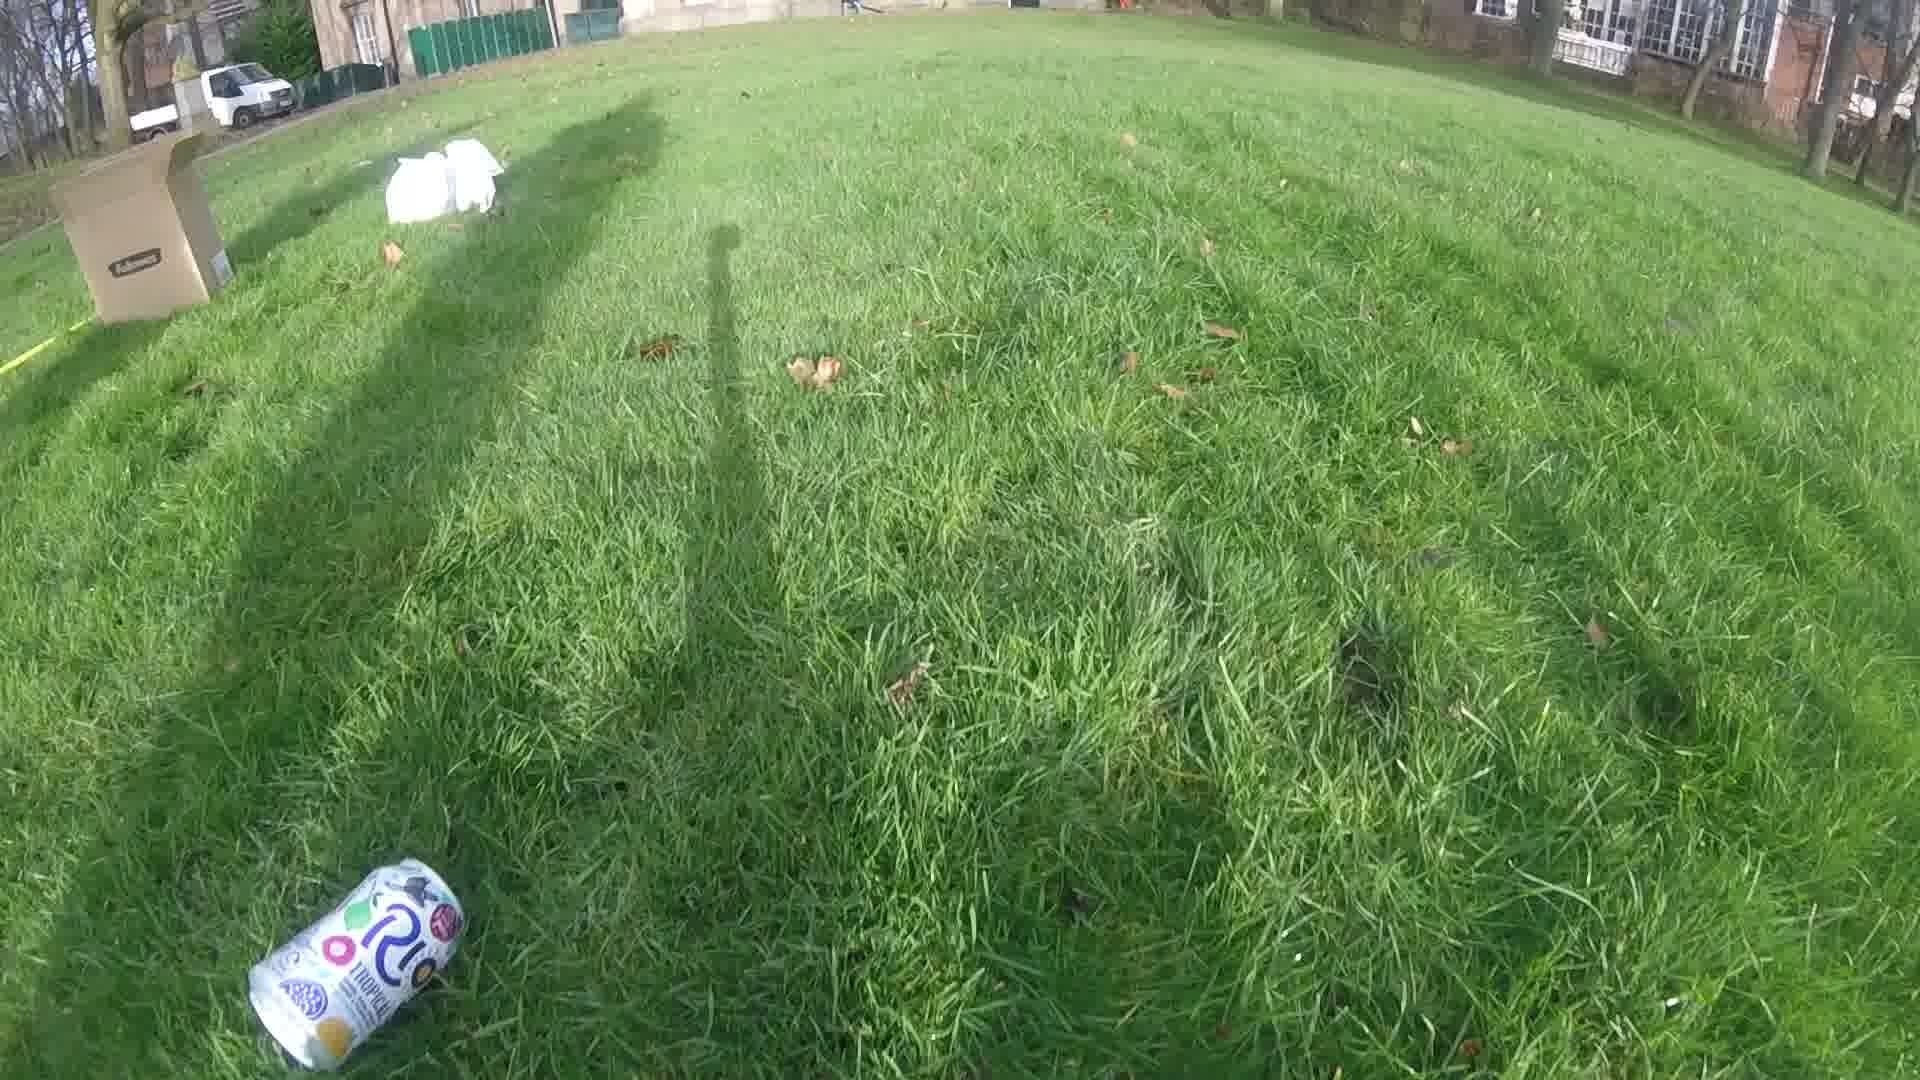litter: (247, 853, 463, 1069), (47, 132, 237, 334), (382, 138, 500, 225)
